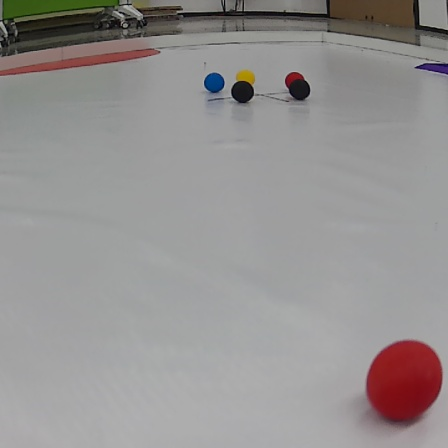black: (230, 82, 259, 105), (289, 80, 312, 101)
blue: (203, 70, 226, 91)
red: (363, 340, 443, 423), (282, 71, 304, 87)
red_base: (0, 46, 159, 78)
yellow: (234, 68, 258, 85)
